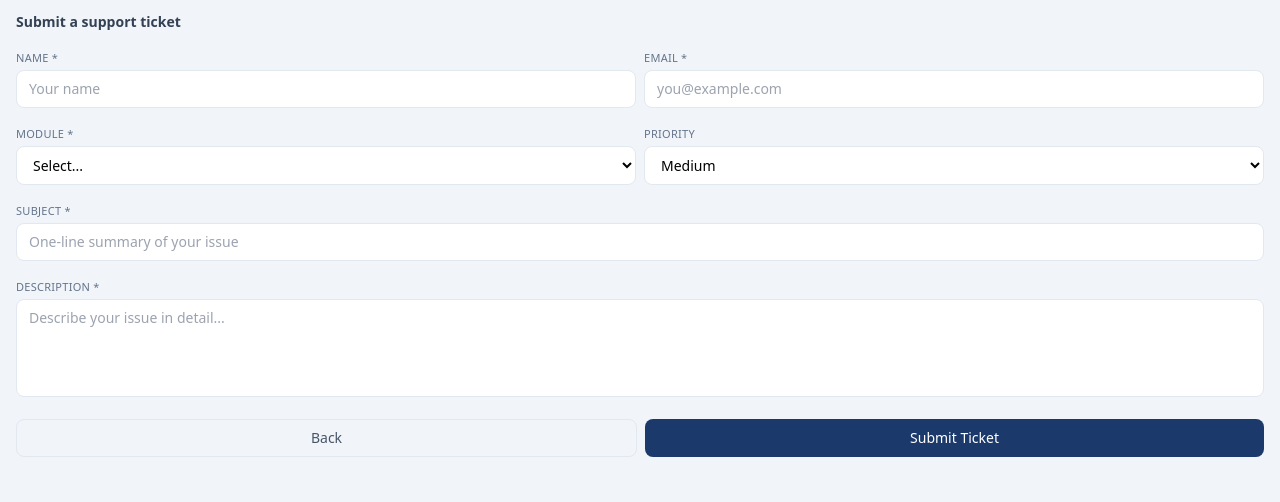
Test: TicketForm › shows an error message when the request fails
In the field with placeholder "Your name": (326, 89) [16,70,636,108], type "Jane Doe"
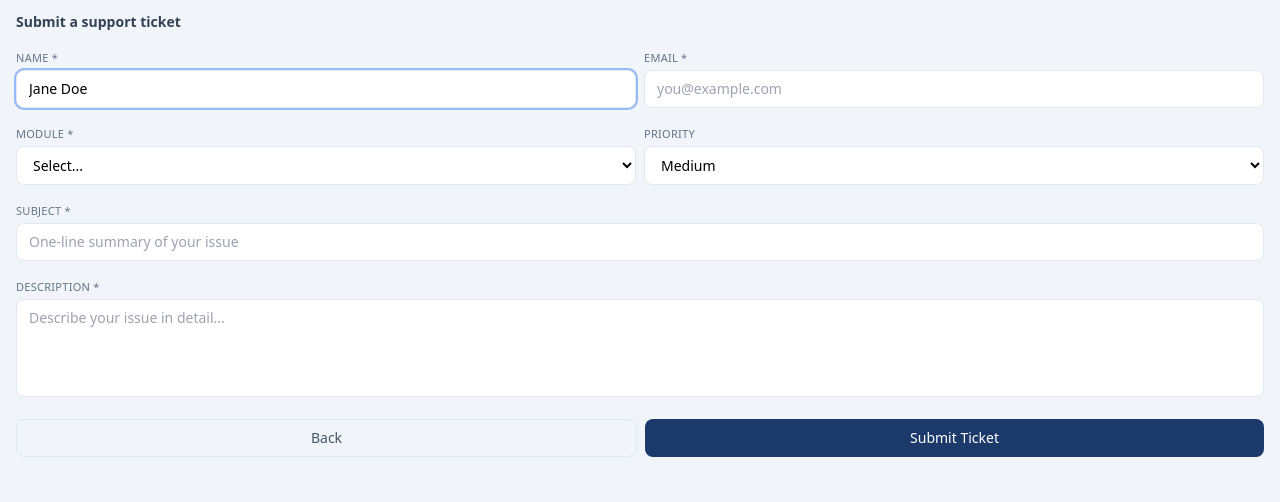
In the field with placeholder "you@example.com": (954, 89) [644,70,1264,108], type "jane@example.com"
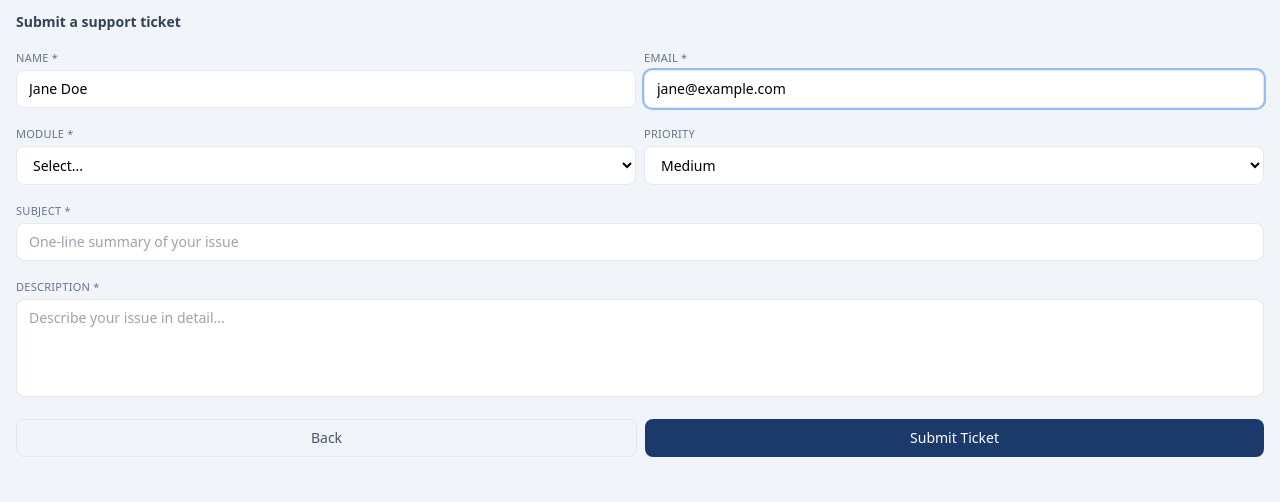
Select "General" in the dropdown showing "Select..." below "Module *": (326, 166) [16,146,636,185]
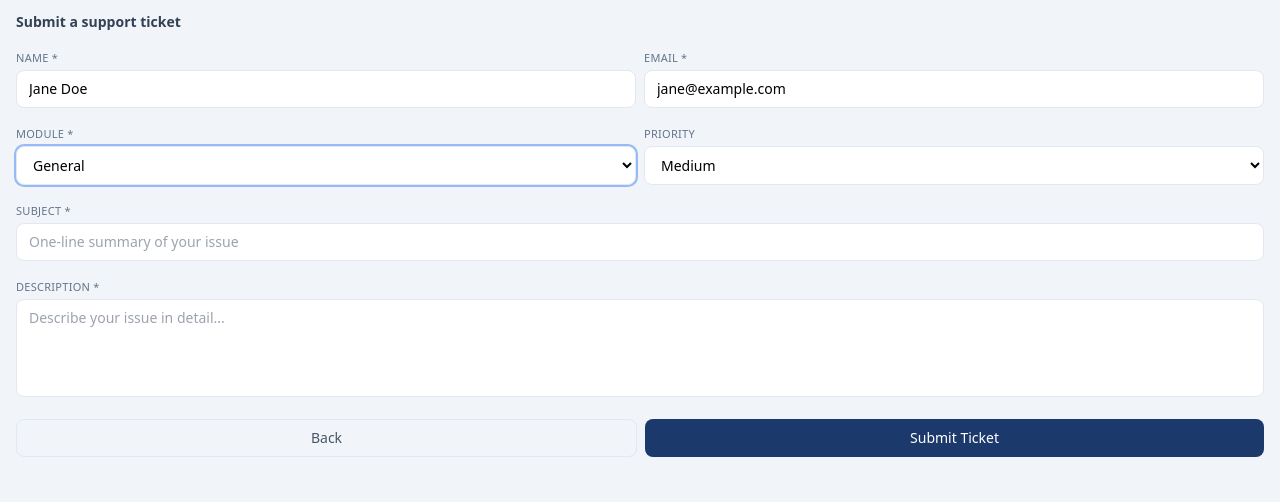
In the field with placeholder "One-line summary of your issue": (640, 242) [16,223,1264,261], type "x"
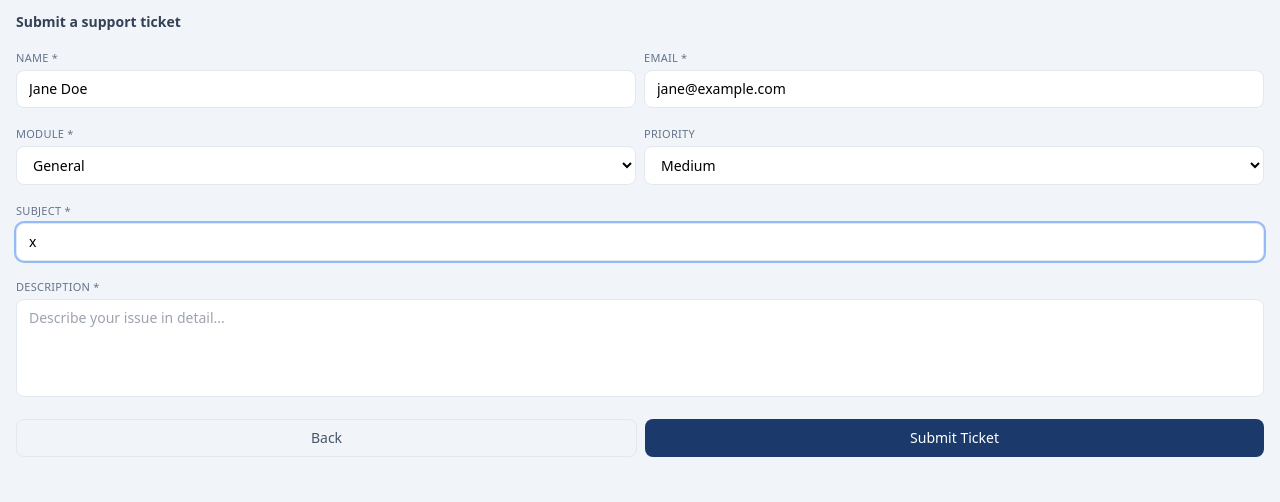
In the text box with placeholder "Describe your issue in detail...": (640, 348) [16,299,1264,397], type "x"
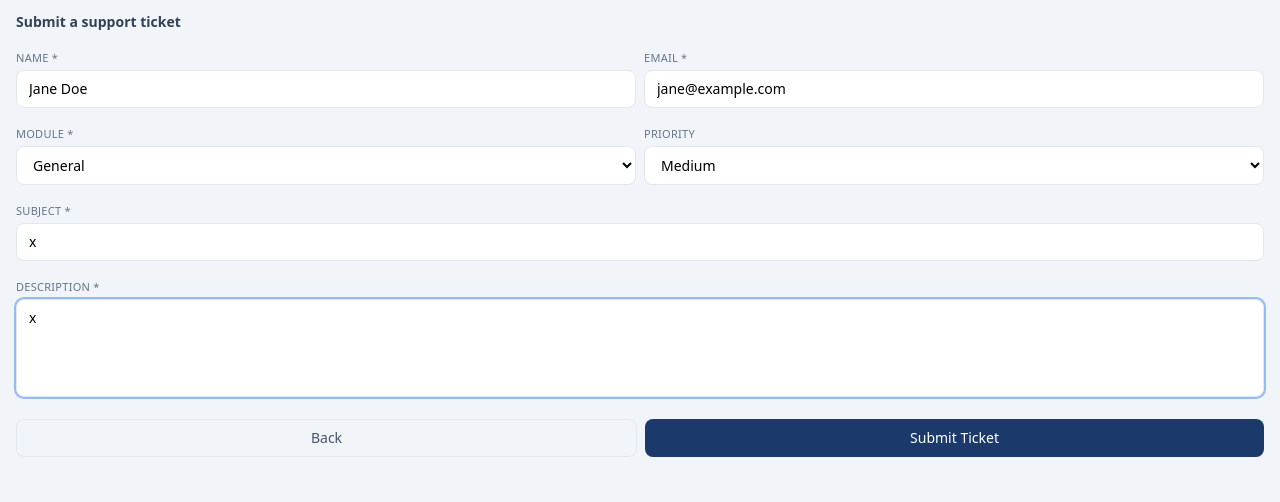
Click the button "Submit Ticket": (954, 438) [645,419,1264,457]
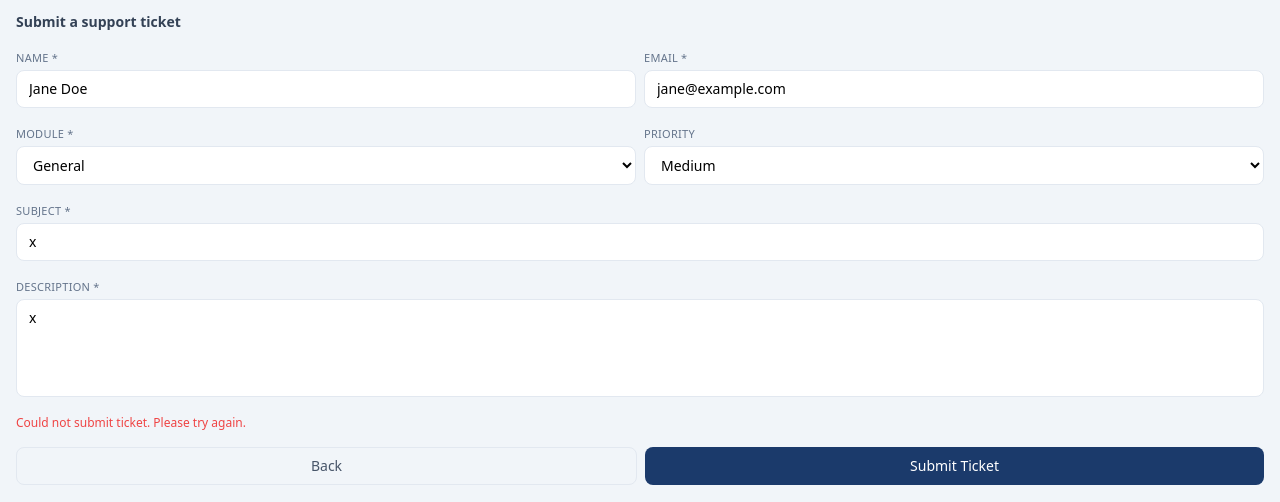
Expected: the text "Could not submit ticket. Please try again." is shown, [16,414,246,431]
